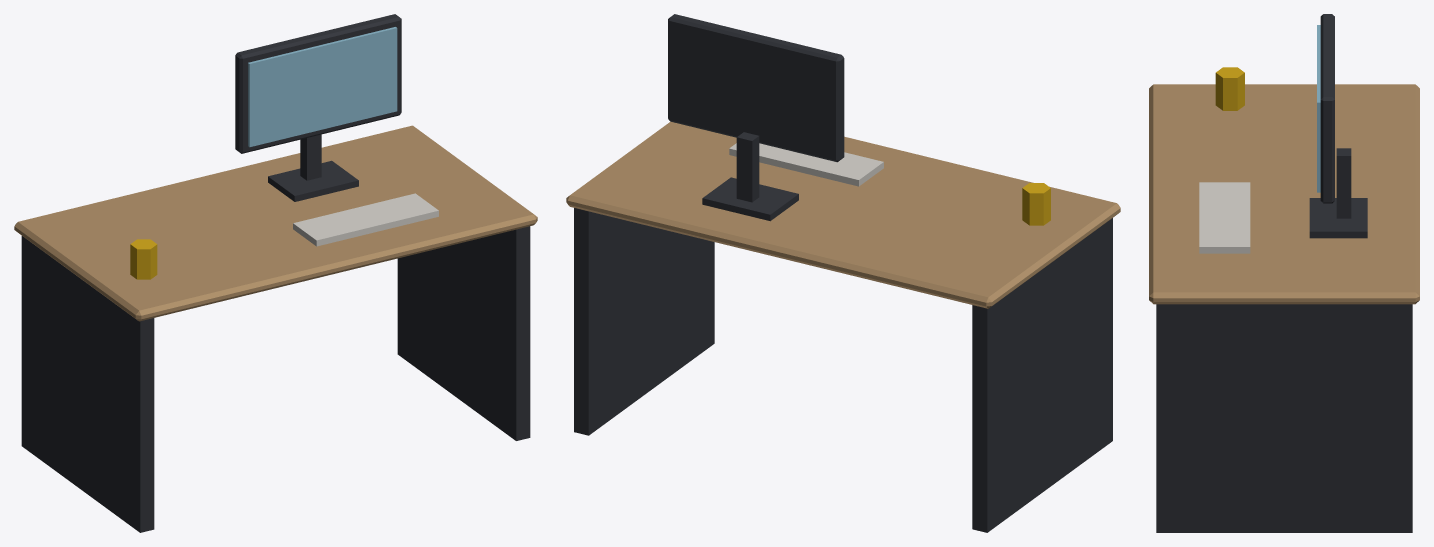
The model's file is office-desk-06.glb.
3 views of the same model, side by side, from view 1: azimuth 30°, elevation 25°; view 2: azimuth 150°, elevation 25°; view 3: azimuth 270°, elevation 25° (orthographic). The views are drawn at different scales.
Parts seen in each view (by area): view 1: office_desk_06; view 2: office_desk_06; view 3: office_desk_06.
Part boxes in pixels (left/top/right/bottom): office_desk_06: left=14, top=14, right=537, bottom=532; office_desk_06: left=566, top=14, right=1120, bottom=532; office_desk_06: left=1149, top=14, right=1419, bottom=532.
Size of the model in its own units: 1.38 by 1.24 by 0.7451.
